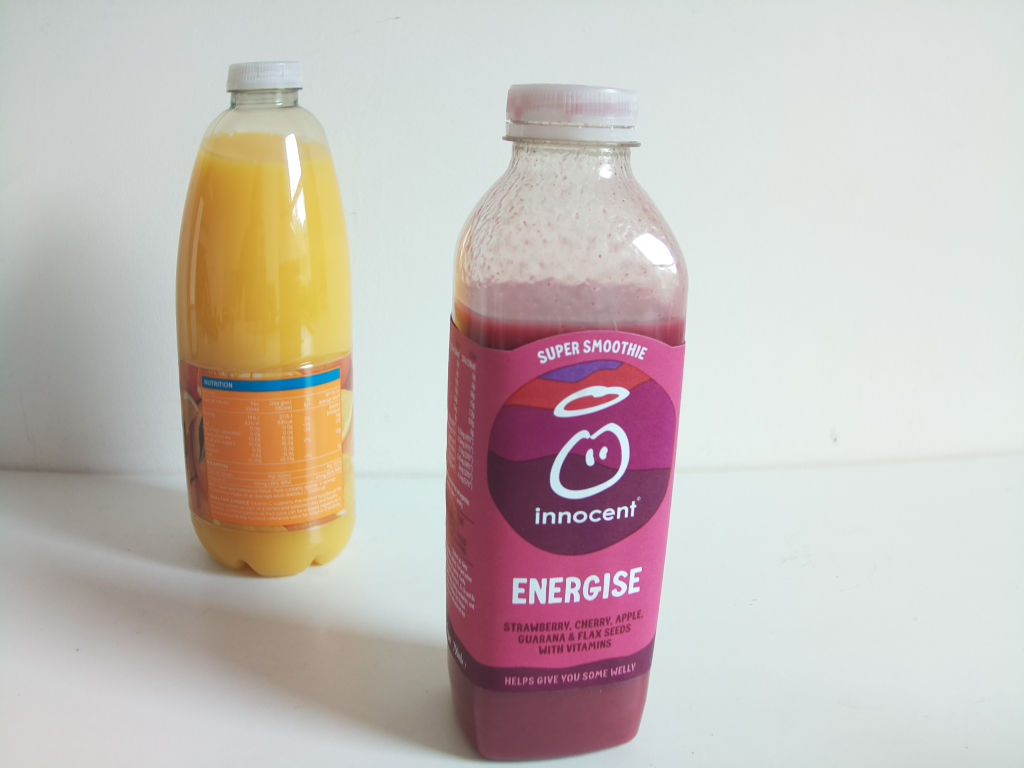juice: (454, 75, 689, 763), (173, 59, 366, 575)
